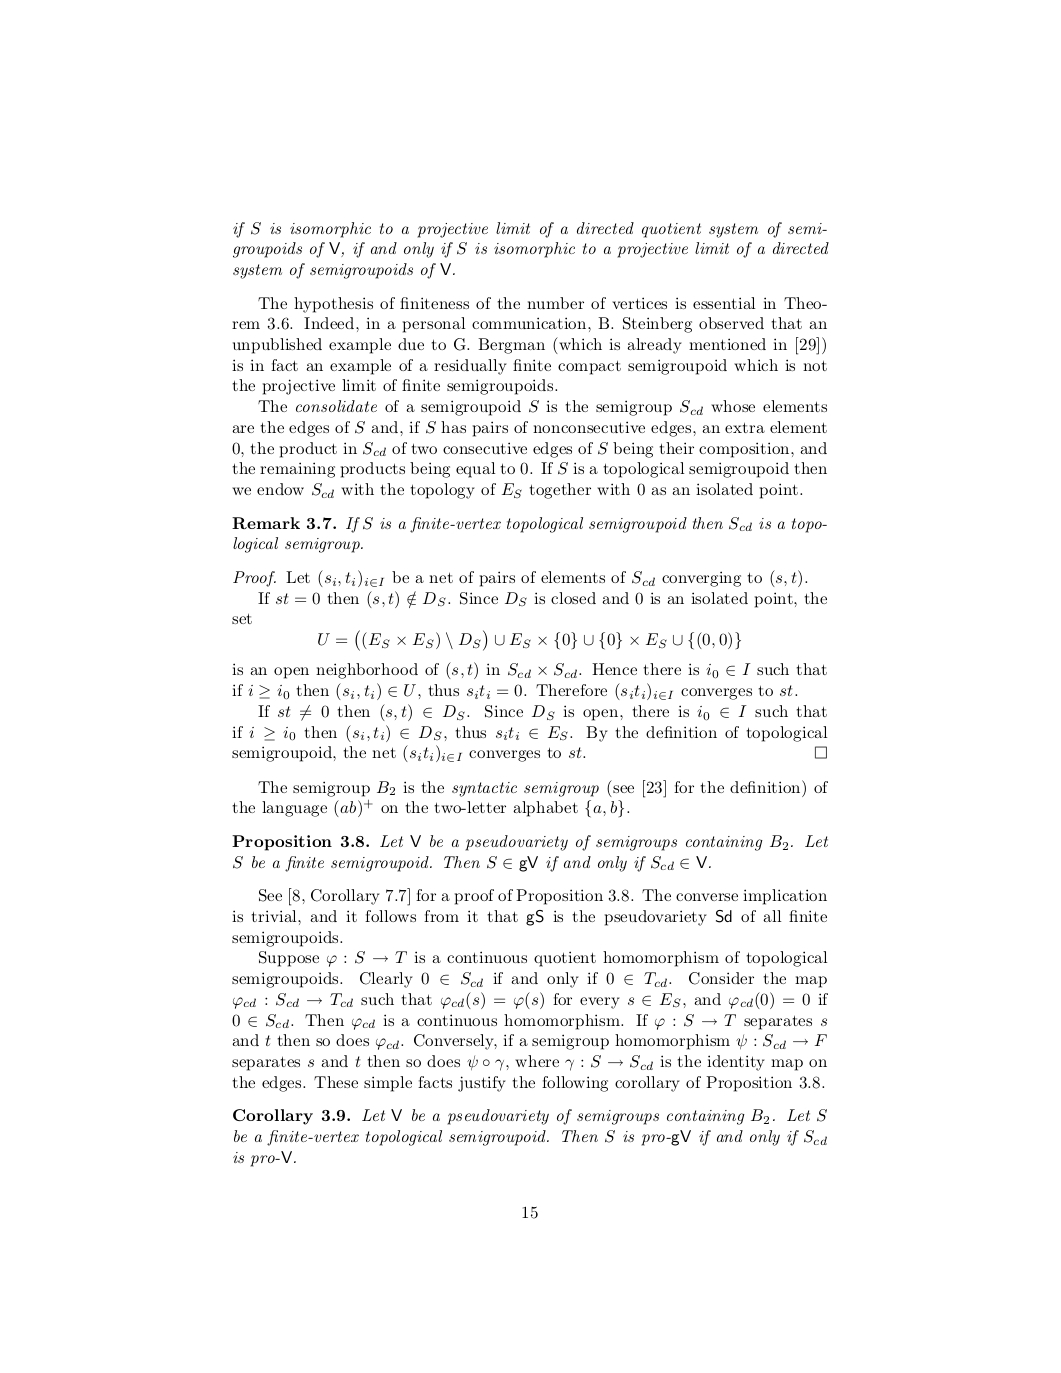formula: (318, 629, 740, 651)
